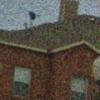chimneys: (59, 0, 80, 21)
